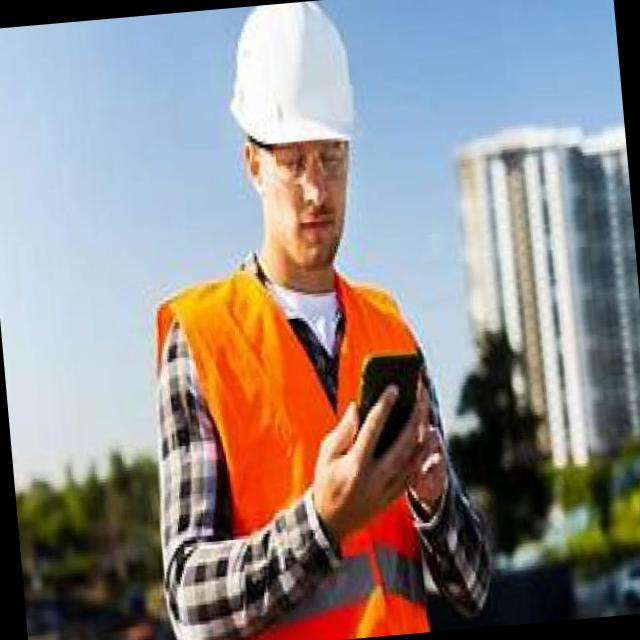not-gloved: (295, 385, 429, 517)
